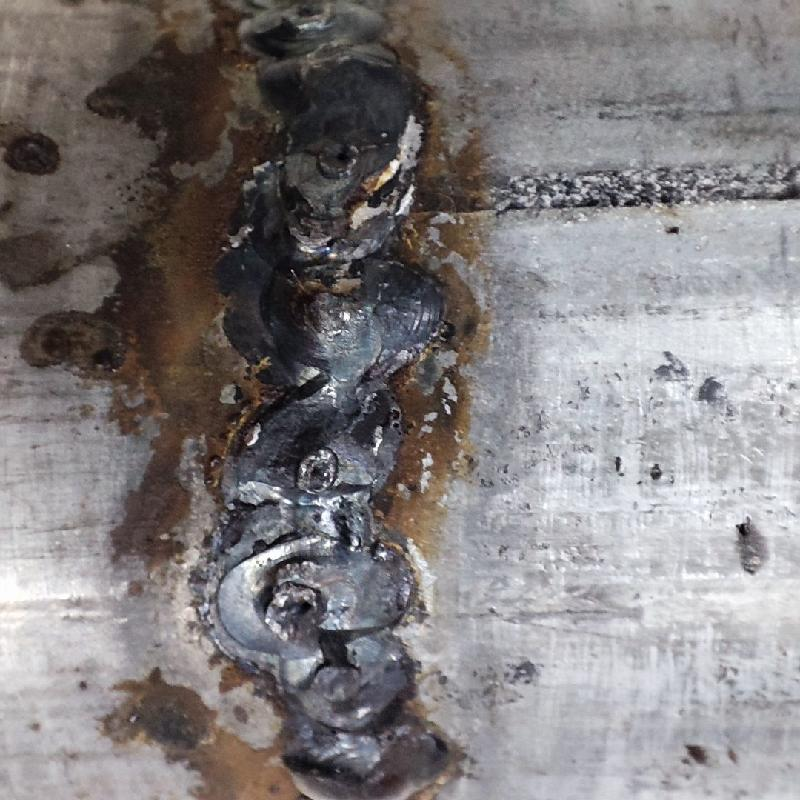Surface_pores: (264, 580, 323, 634), (303, 450, 339, 502)
Weld: (281, 730, 448, 796)
wrong_size: (226, 1, 458, 797)
